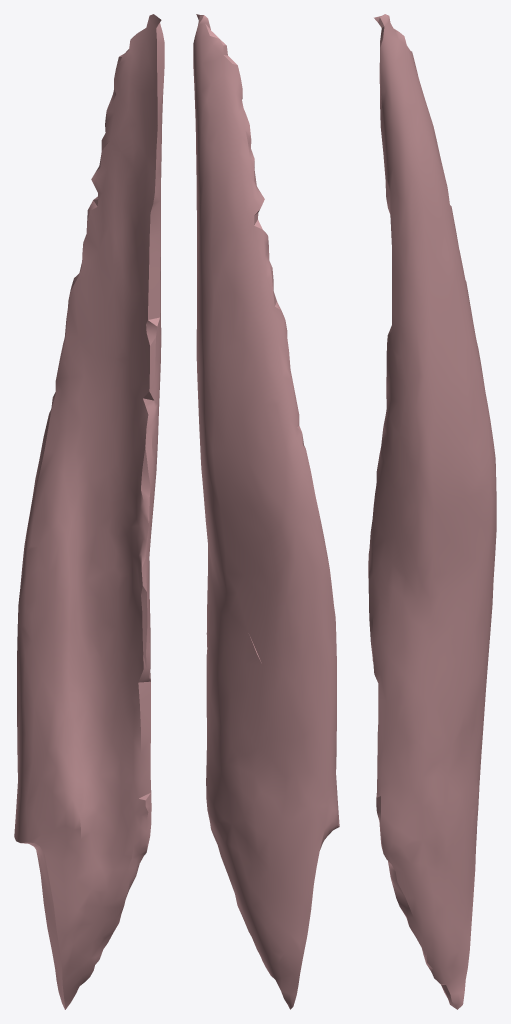
The model's file is fma47124_mm1696.glb.
3 views of the same model, side by side, from view 1: azimuth 30°, elevation 25°; view 2: azimuth 210°, elevation 25°; view 3: azimuth 270°, elevation 25° (orthographic). The views are drawn at different scales.
Visible parts, largest first — view 1: FMA47124_MM1696; view 2: FMA47124_MM1696; view 3: FMA47124_MM1696.
Boxes of the visible parts, bbox=[...] form: FMA47124_MM1696: bbox=[14, 14, 164, 1009]; FMA47124_MM1696: bbox=[193, 14, 339, 1009]; FMA47124_MM1696: bbox=[368, 14, 496, 1009].
Bounding box in the file's own units: 0.02 × 0.1616 × 0.0184.
